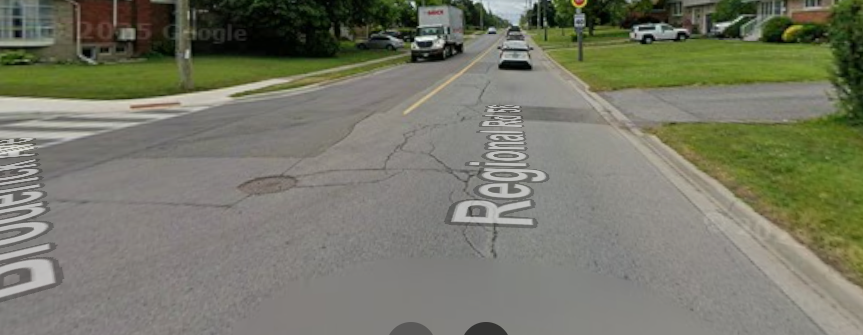cracks: (389, 92, 491, 151), (368, 154, 501, 185), (455, 217, 515, 267)
pothole: (219, 164, 321, 210)
